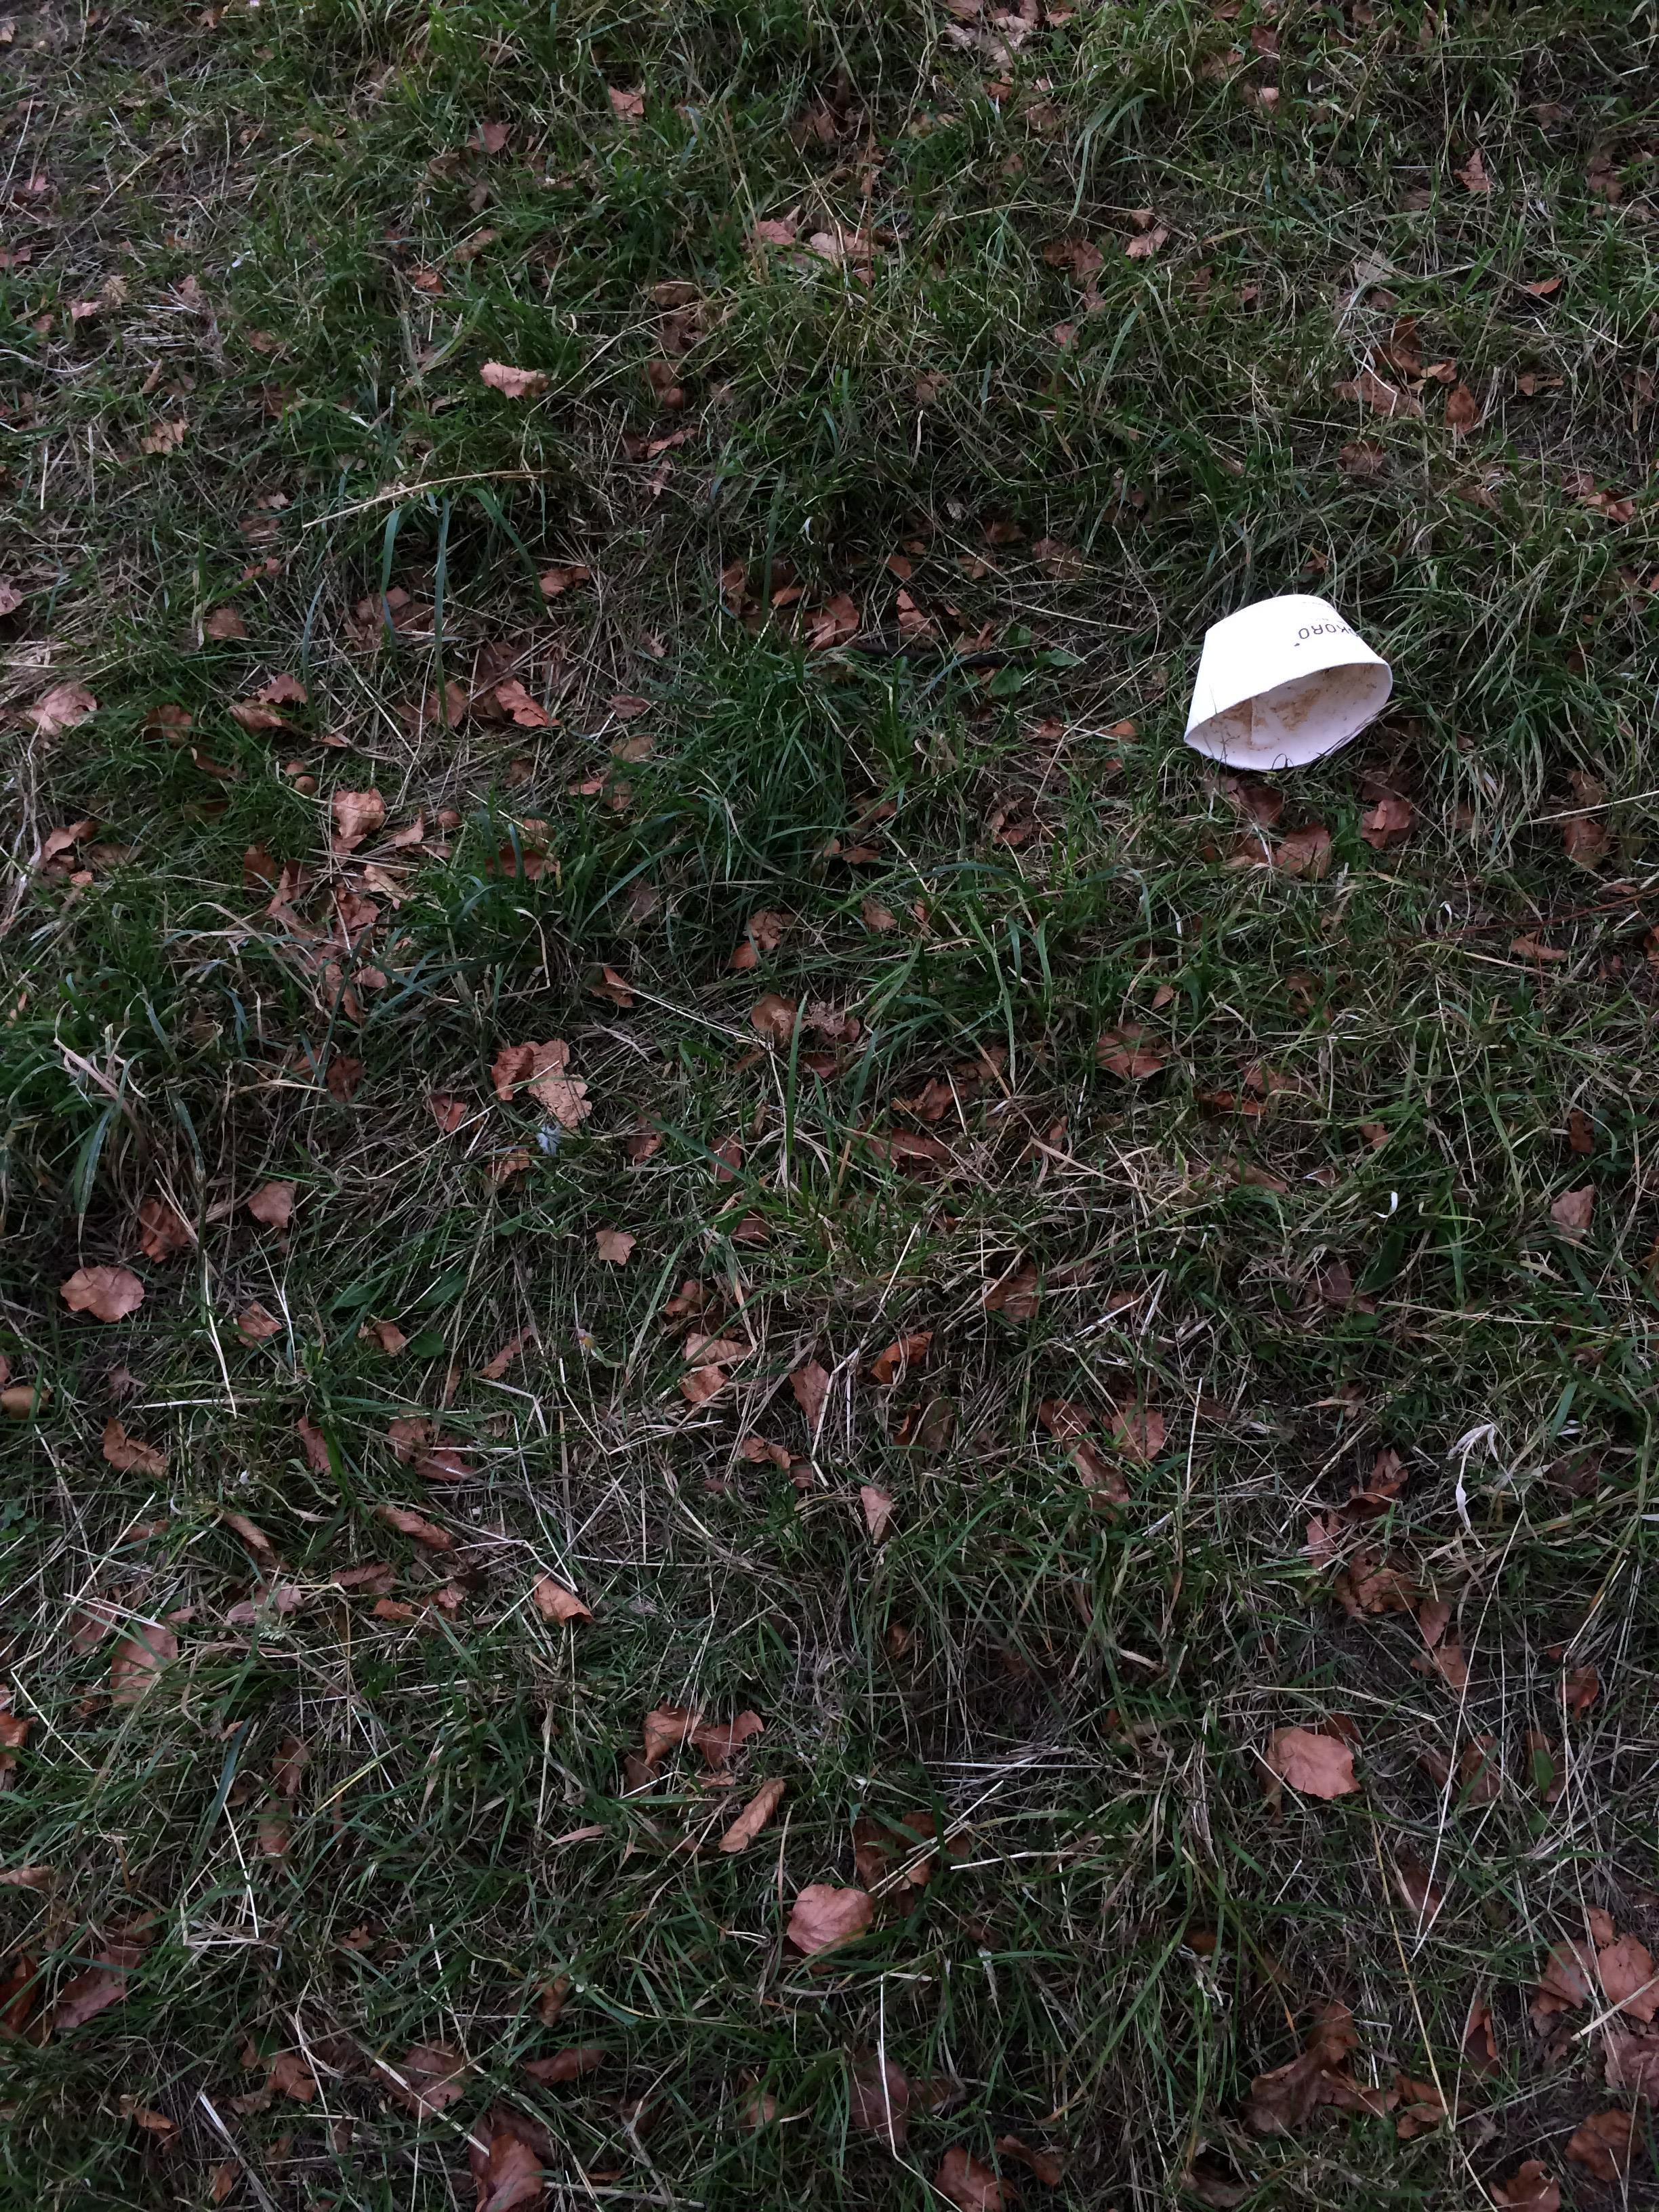Trash: (1187, 592, 1394, 780)
